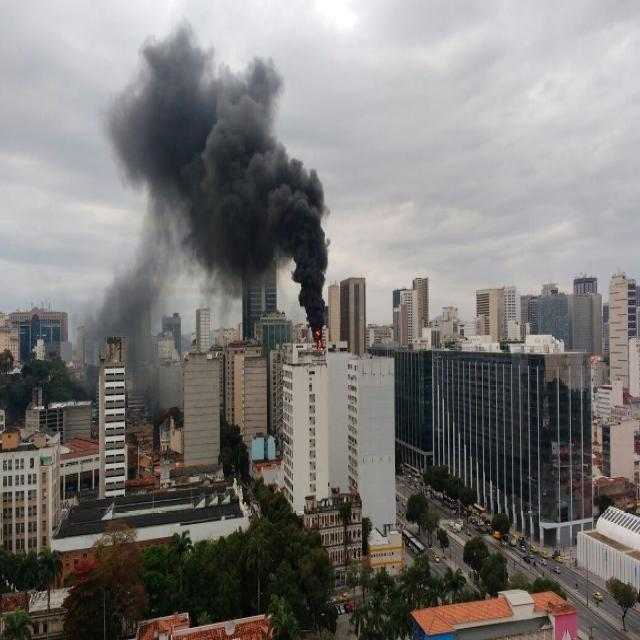Smoke: (72, 18, 330, 412)
